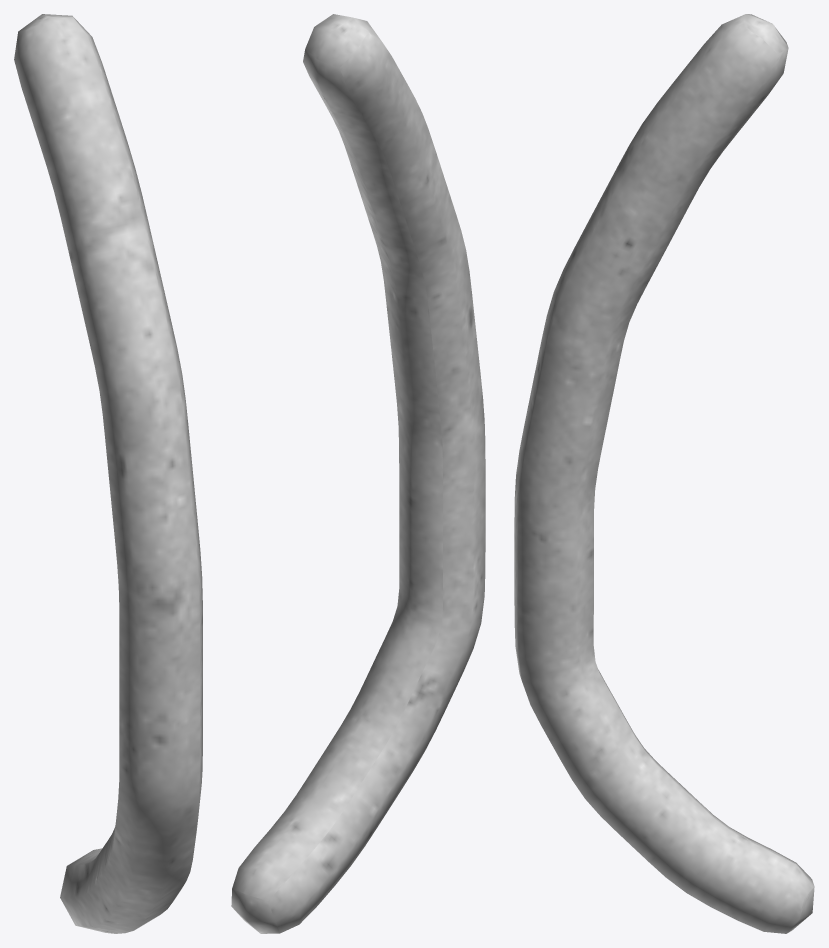
File: Coral_Long.fbx
3 renders of one model, left to right at view 1: azimuth 30°, elevation 25°; view 2: azimuth 150°, elevation 25°; view 3: azimuth 270°, elevation 25°, orthographic. The views are drawn at different scales.
Visible parts, largest first — view 1: Plane.001; view 2: Plane.001; view 3: Plane.001.
Boxes of the visible parts, x1,y1,x2,y2 form: Plane.001: (14, 14, 202, 933); Plane.001: (231, 14, 485, 933); Plane.001: (514, 14, 814, 933).
Size of the model in its own units: 255 by 831 by 123.
